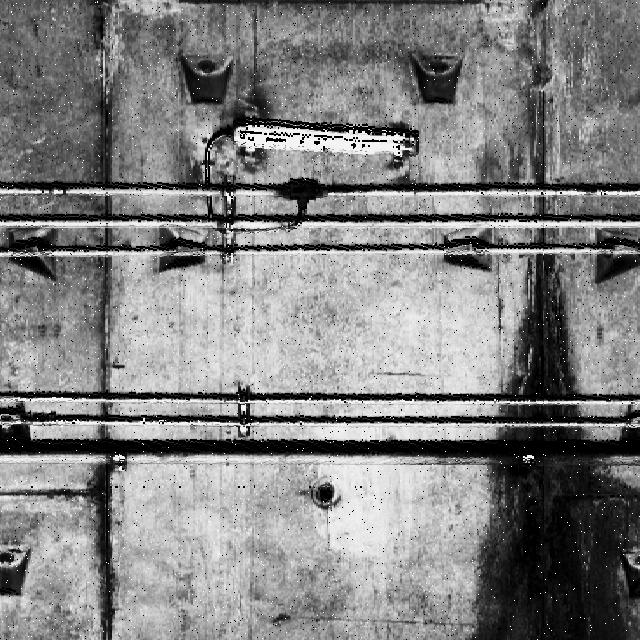leakage: (465, 186, 639, 640), (49, 464, 135, 640)
